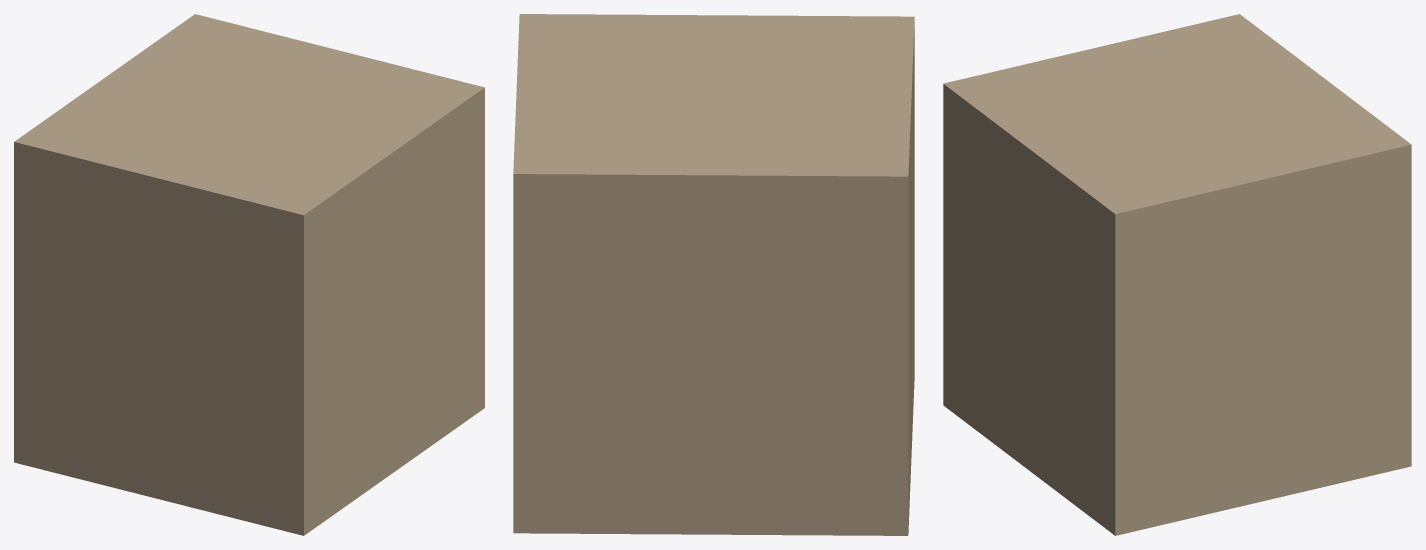
File: bld_107716197.dae
3 views of the same model, side by side, from view 1: azimuth 30°, elevation 25°; view 2: azimuth 150°, elevation 25°; view 3: azimuth 270°, elevation 25° (orthographic). The views are drawn at different scales.
Visible parts, largest first — view 1: bld_107716197; view 2: bld_107716197; view 3: bld_107716197.
Boxes of the visible parts, left/top/right/bottom form: bld_107716197: left=14, top=14, right=484, bottom=535; bld_107716197: left=513, top=14, right=914, bottom=535; bld_107716197: left=943, top=14, right=1411, bottom=535.
Size of the model in its own units: 10.68 by 10.56 by 8.
